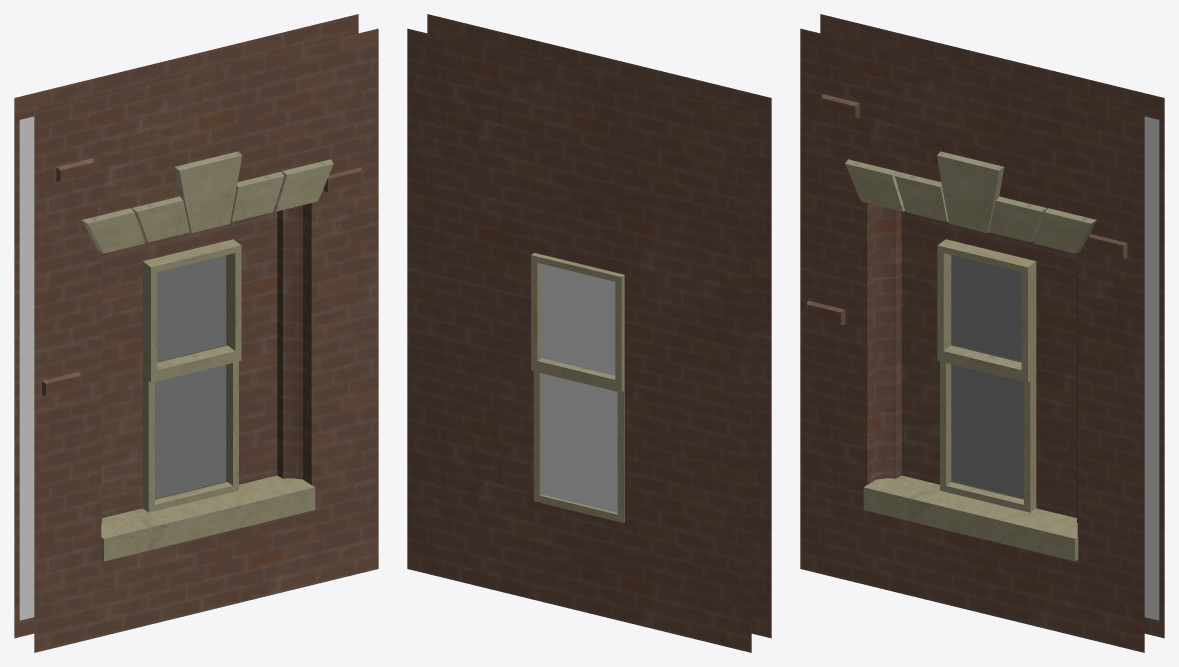
The model's file is brick_window_trim_single.glb.
3 views of the same model, side by side, from view 1: azimuth 30°, elevation 25°; view 2: azimuth 150°, elevation 25°; view 3: azimuth 330°, elevation 25° (orthographic).
Visible parts, largest first — view 1: Brick_Window_Trim_Single; view 2: Brick_Window_Trim_Single; view 3: Brick_Window_Trim_Single.
Part boxes in pixels (x1=…): Brick_Window_Trim_Single: x1=14, y1=14, x2=378, y2=652; Brick_Window_Trim_Single: x1=407, y1=14, x2=771, y2=652; Brick_Window_Trim_Single: x1=800, y1=14, x2=1164, y2=652.
Bounding box in the file's own units: 2 × 3 × 0.2769.
Materials: 5 (3 with a texture image).
